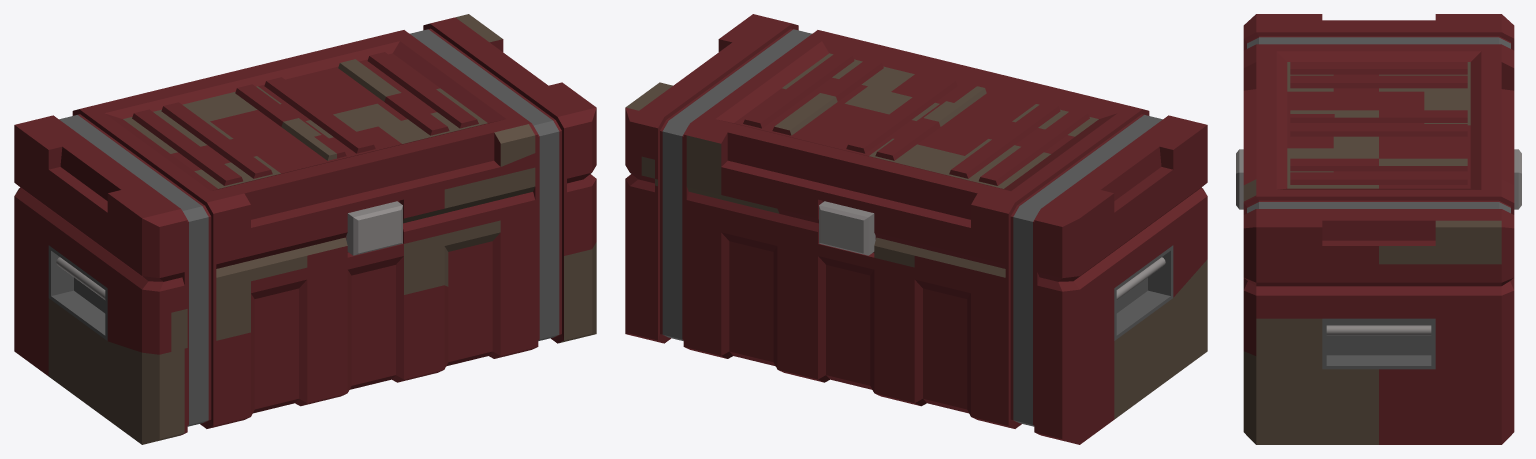
File: chest_3.glb
3 views of the same model, side by side, from view 1: azimuth 30°, elevation 25°; view 2: azimuth 150°, elevation 25°; view 3: azimuth 270°, elevation 25° (orthographic). The views are drawn at different scales.
Parts seen in each view (by area): view 1: Chest_Special; view 2: Chest_Special; view 3: Chest_Special.
Part boxes in pixels (box(x1,y1,x2,y2)): Chest_Special: box(14, 14, 596, 444); Chest_Special: box(625, 14, 1207, 444); Chest_Special: box(1236, 14, 1521, 444).
Bounding box in the file's own units: 1.38 × 0.6584 × 0.7828.
1 material, 1 textured.
